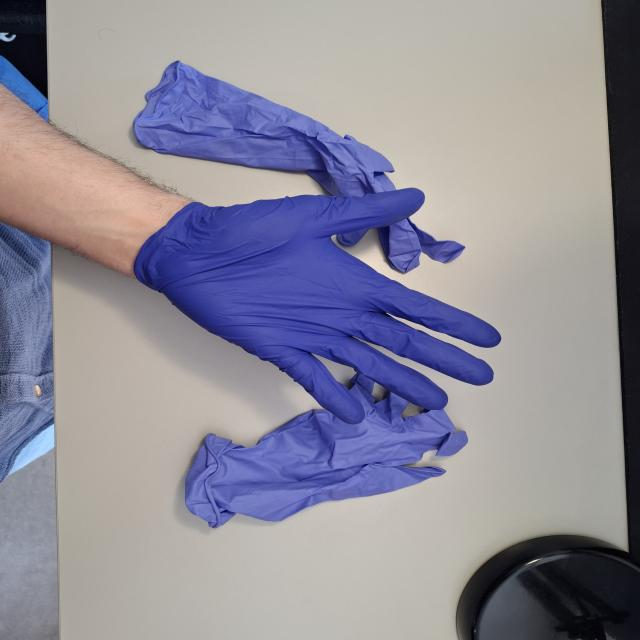glove_on: (133, 185, 506, 428)
